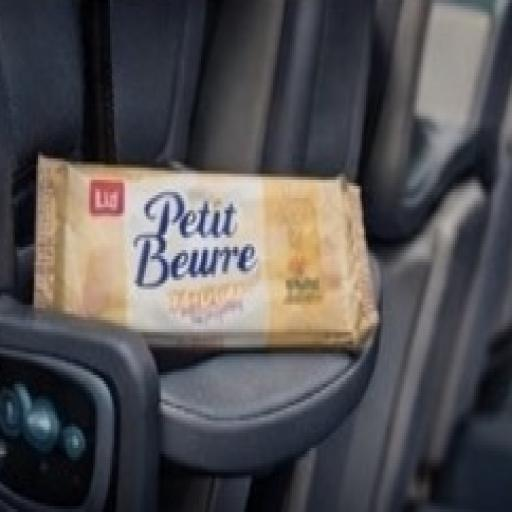petit-beurre: (0, 122, 421, 463)
